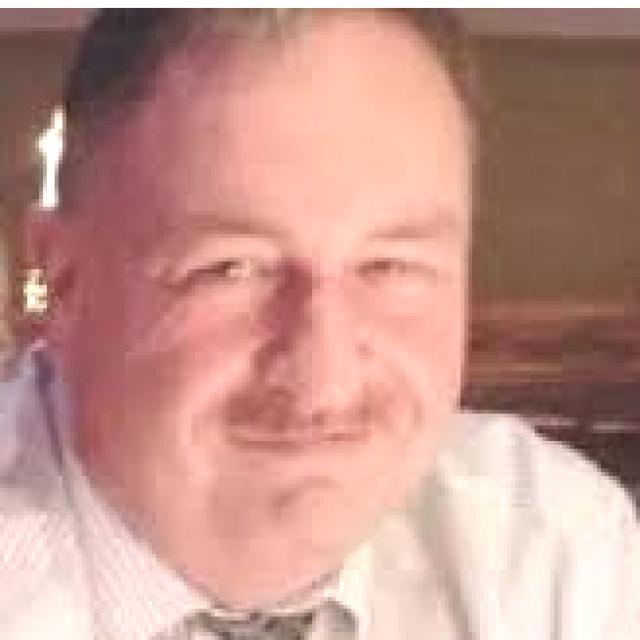normal_face: (66, 0, 472, 591)
